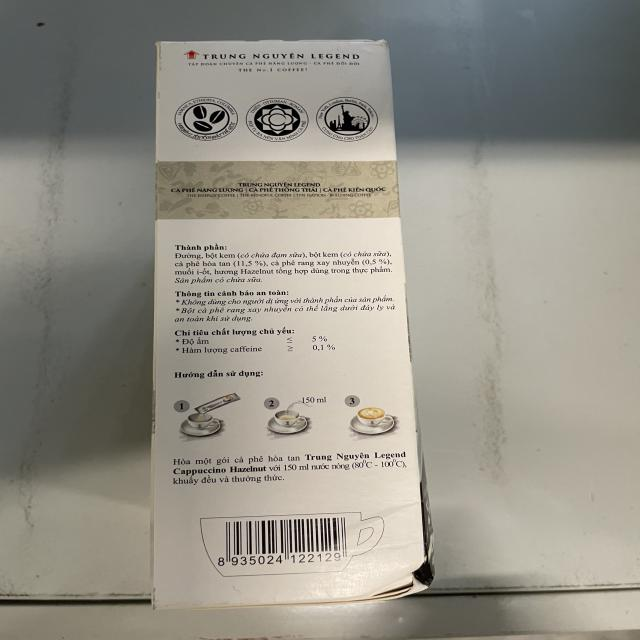object_name: (153, 41, 423, 597)
